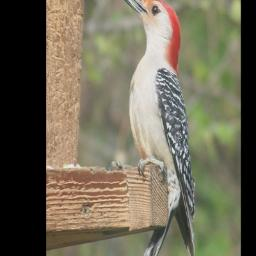Woodpecker: (116, 0, 195, 256)
